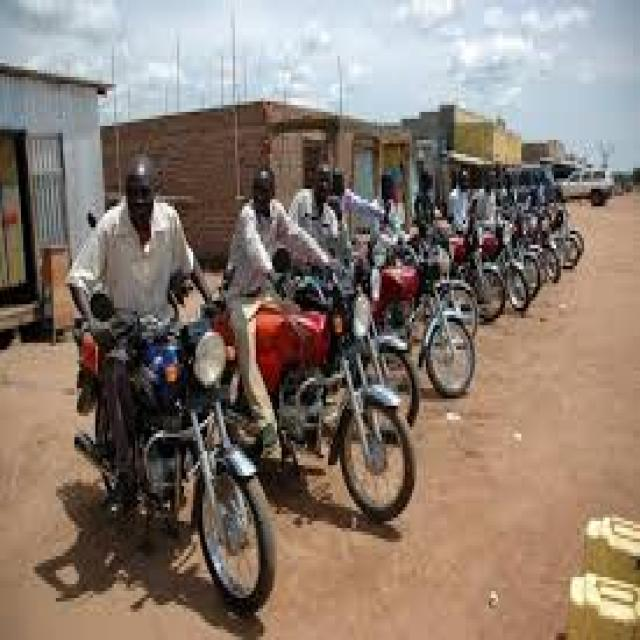bodaboda: (37, 232, 276, 630), (214, 248, 423, 555)
